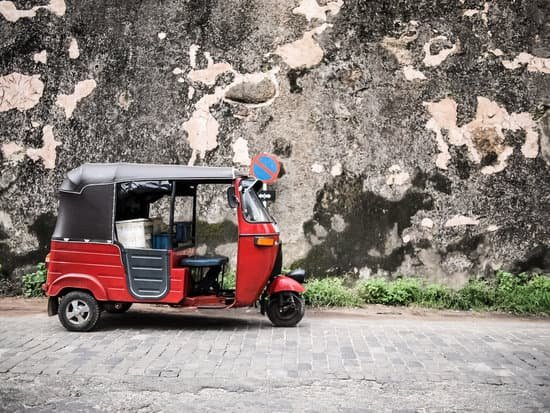threewheel: (41, 164, 306, 333)
